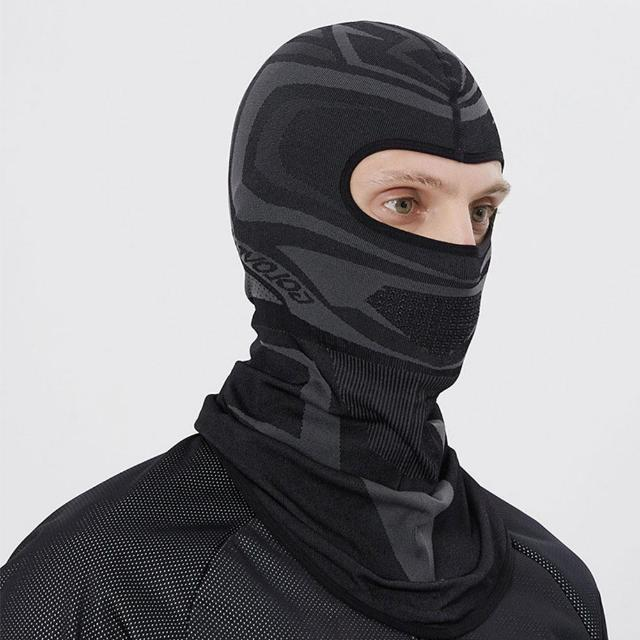criminal: (0, 19, 609, 640)
